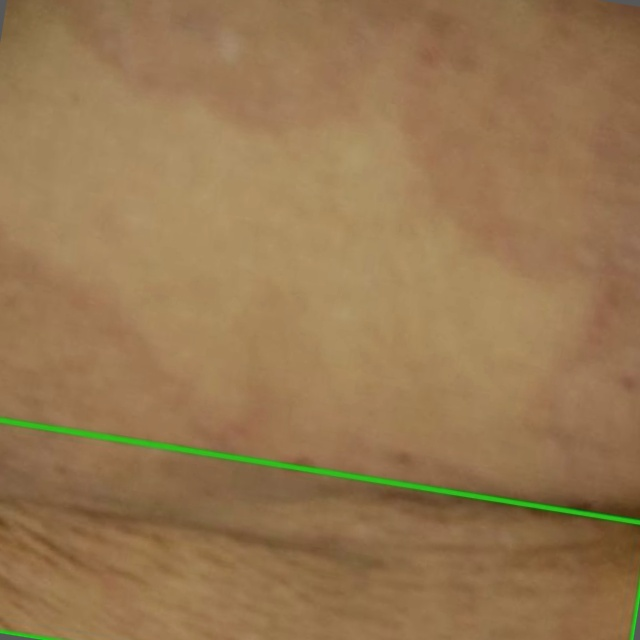Tinea Corporis: (0, 420, 639, 639)
